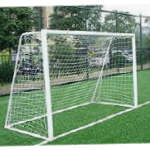goals: (4, 28, 139, 137)
